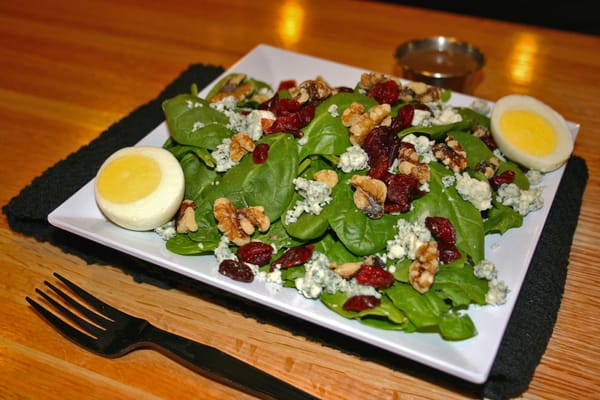burger: (26, 272, 312, 397)
sushi: (490, 93, 575, 173), (394, 35, 486, 90)
